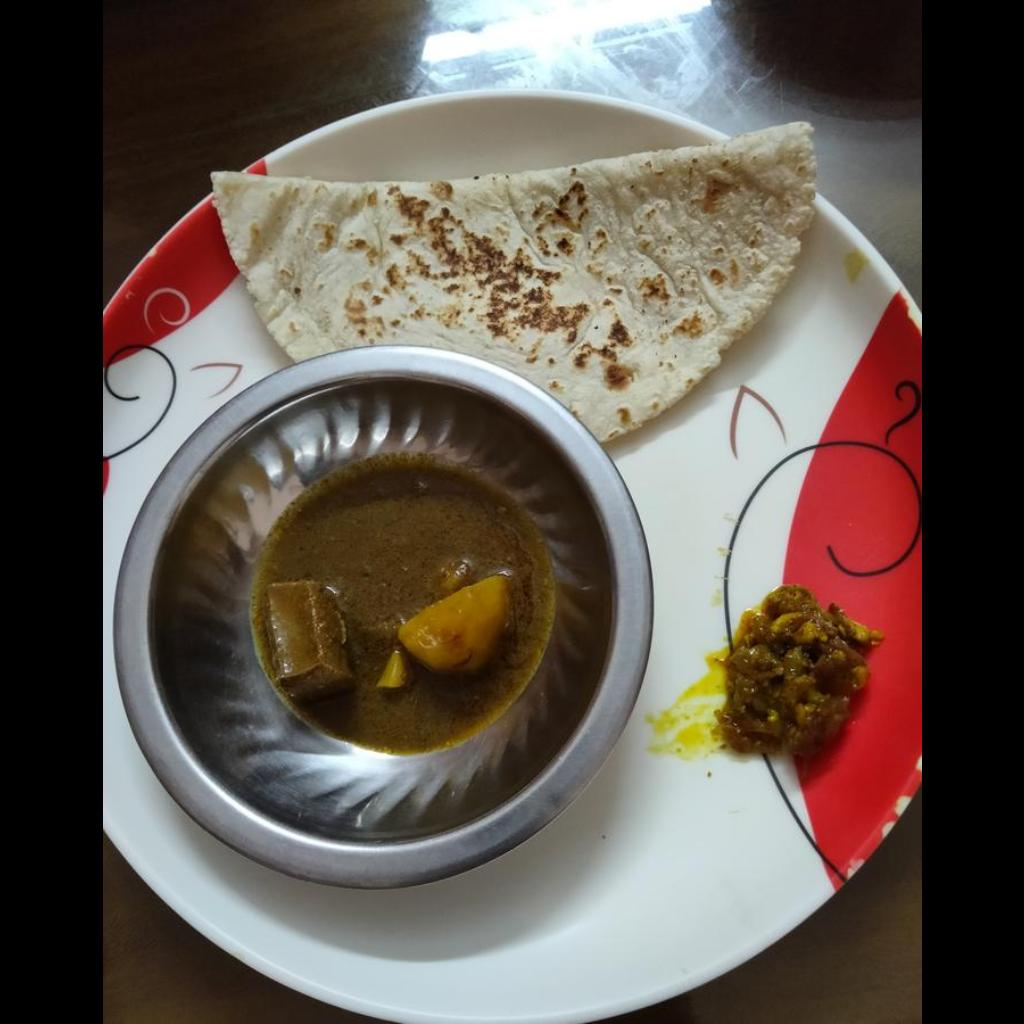achar: (714, 585, 880, 758)
beef: (267, 580, 349, 699)
potato: (397, 575, 507, 674)
ruti: (210, 119, 812, 442)
